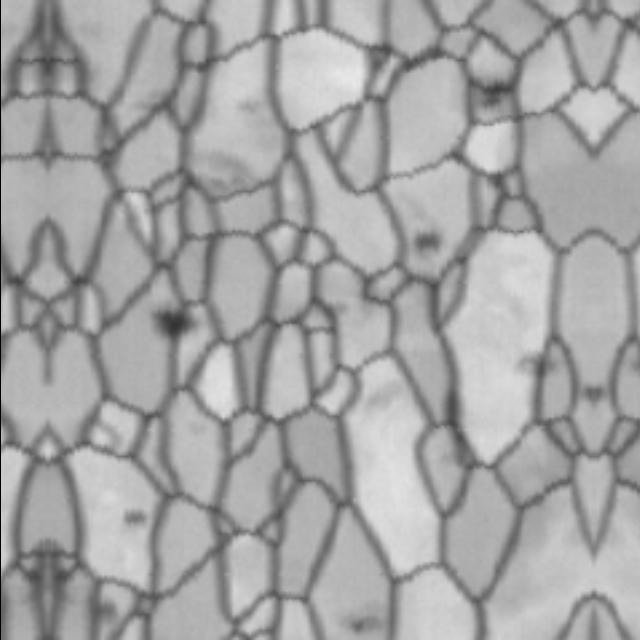good_void: (352, 370, 413, 428), (147, 306, 199, 341), (509, 348, 564, 380), (341, 607, 386, 640), (409, 224, 449, 261), (475, 78, 515, 111), (235, 93, 263, 116), (123, 506, 151, 528), (188, 419, 208, 442), (625, 354, 640, 379)
